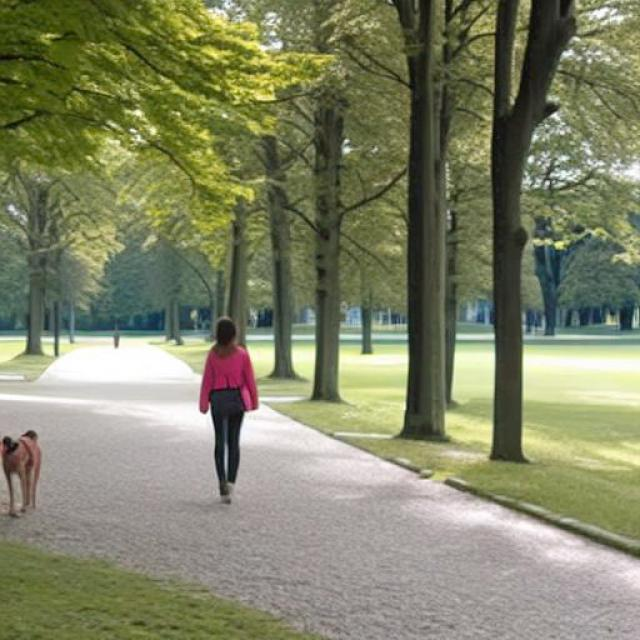Unleashed_Dog: (0, 385, 247, 515)
